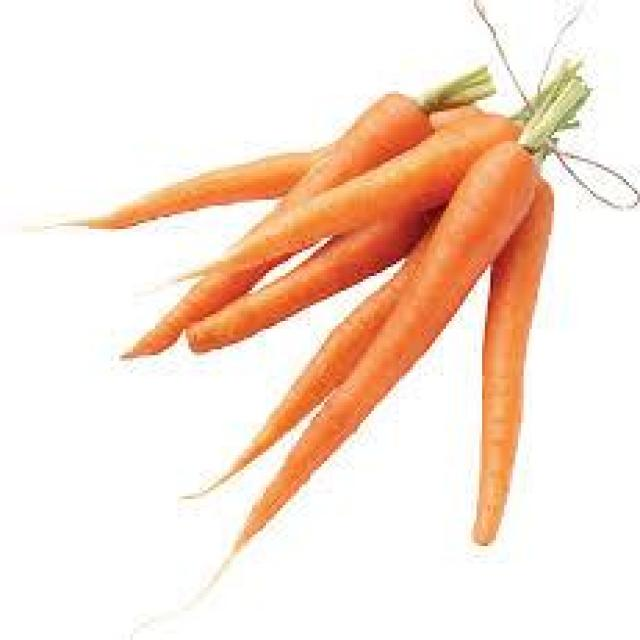organic: (89, 62, 593, 555)
